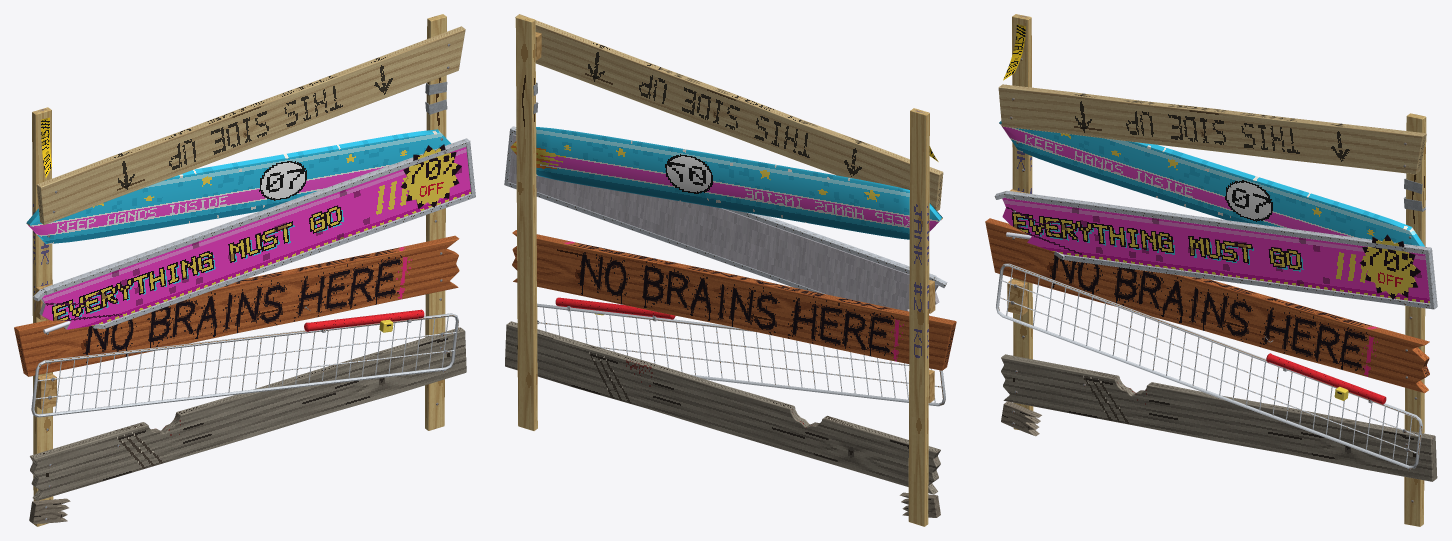
Rendered from x_zmboard.glb.
3 views of the same model, side by side, from view 1: azimuth 30°, elevation 25°; view 2: azimuth 150°, elevation 25°; view 3: azimuth 330°, elevation 25° (orthographic).
Visible parts, largest first — view 1: plank_3, plank_2, plank_0, plank_5, plank_4, plank_1, frame; view 2: plank_2, plank_4, plank_0, plank_3, frame, plank_5, plank_1; view 3: plank_3, plank_2, plank_0, plank_5, plank_4, plank_1, frame.
Boxes of the visible parts, left/top/right/bottom form: plank_3: left=33, top=138, right=475, bottom=333; plank_2: left=14, top=235, right=459, bottom=376; plank_0: left=30, top=327, right=466, bottom=500; plank_5: left=36, top=26, right=465, bottom=224; plank_4: left=26, top=129, right=450, bottom=244; plank_1: left=31, top=309, right=458, bottom=417; frame: left=29, top=14, right=447, bottom=526; plank_2: left=512, top=230, right=956, bottom=370; plank_4: left=510, top=127, right=942, bottom=239; plank_0: left=505, top=321, right=940, bottom=494; plank_3: left=504, top=126, right=947, bottom=315; frame: left=515, top=15, right=940, bottom=526; plank_5: left=515, top=14, right=943, bottom=211; plank_1: left=537, top=297, right=945, bottom=406; plank_3: left=994, top=189, right=1437, bottom=309; plank_2: left=985, top=218, right=1429, bottom=392; plank_0: left=1001, top=354, right=1437, bottom=481; plank_5: left=998, top=84, right=1426, bottom=174; plank_4: left=999, top=121, right=1424, bottom=246; plank_1: left=996, top=263, right=1422, bottom=468; frame: left=1001, top=14, right=1426, bottom=526.
Size of the model in its own units: 2.43 by 2.11 by 0.1525.
12 materials, 10 textured.
